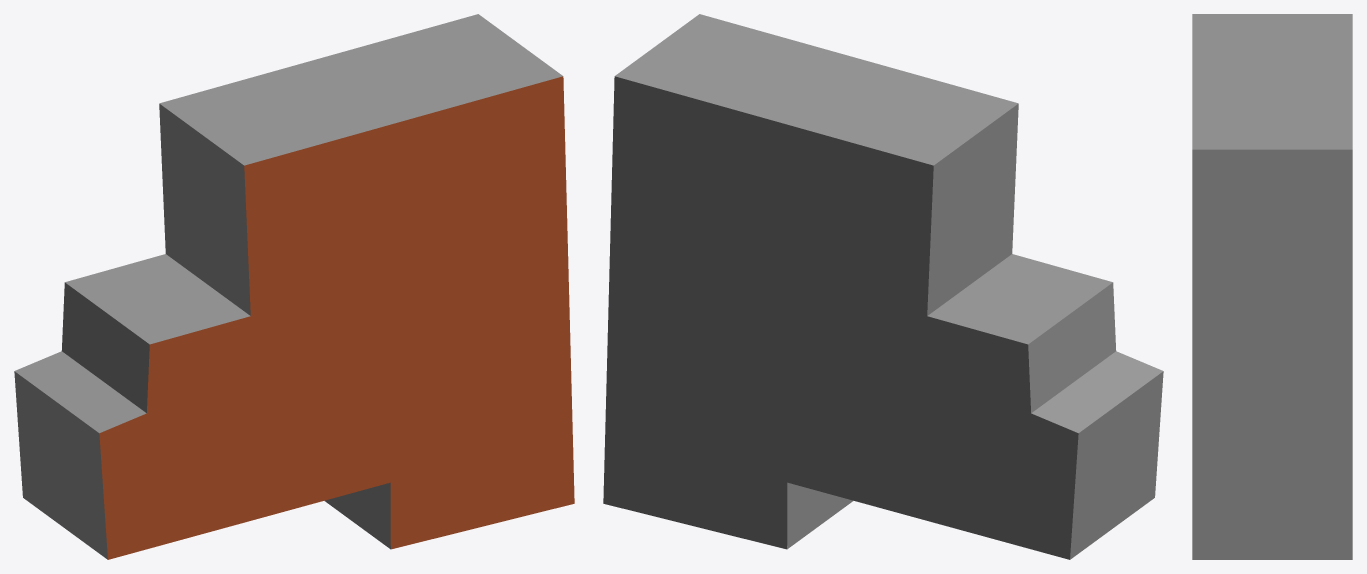
File: construction_5770_assumed_A_Casa_h6m.obj
The picture shows the model from 3 angles, left to right: view 1: azimuth 30°, elevation 25°; view 2: azimuth 150°, elevation 25°; view 3: azimuth 270°, elevation 25°; orthographic projection. The views are drawn at different scales.
Visible parts, largest first — view 1: construction_5770_assumed_A_Casa; view 2: construction_5770_assumed_A_Casa; view 3: construction_5770_assumed_A_Casa.
Part boxes in pixels (x1=…): construction_5770_assumed_A_Casa: x1=14, y1=14, x2=574, y2=559; construction_5770_assumed_A_Casa: x1=603, y1=14, x2=1163, y2=559; construction_5770_assumed_A_Casa: x1=1192, y1=14, x2=1352, y2=559.
Bounding box in the file's own units: 19.36 × 16.79 × 6.
